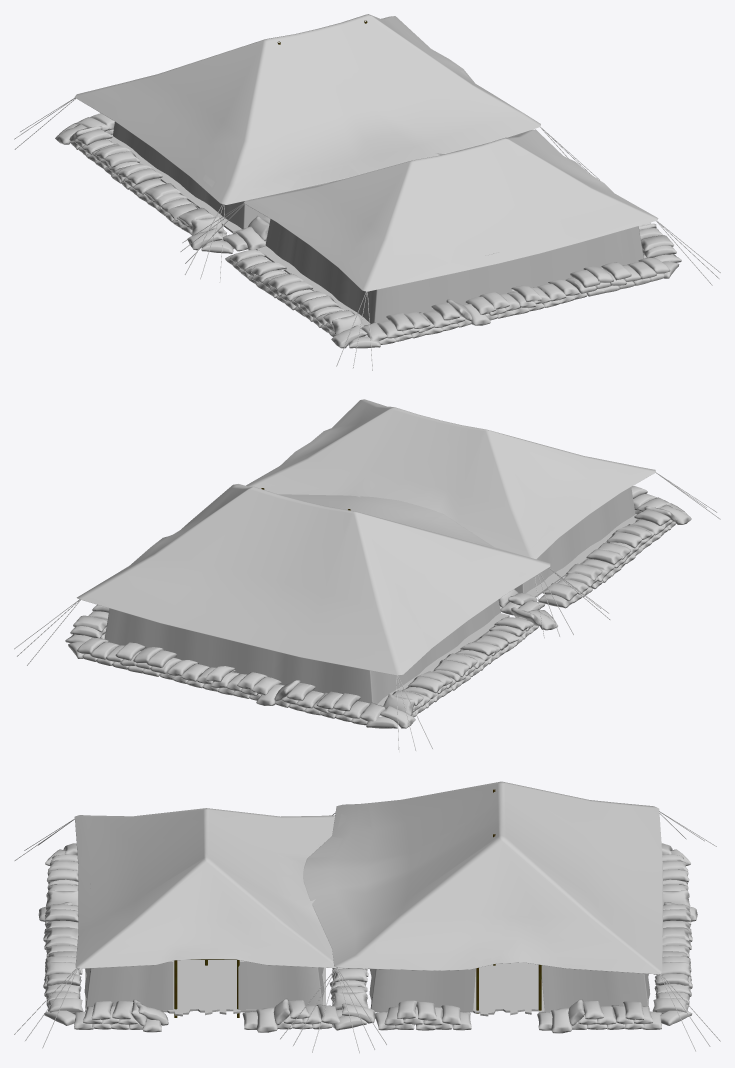
The model's file is HospitalCampanha_03Jun.fbx.
3 views of the same model, one above another, from view 1: azimuth 30°, elevation 25°; view 2: azimuth 150°, elevation 25°; view 3: azimuth 270°, elevation 25° (orthographic). The views are drawn at different scales.
Visible parts, largest first — view 1: pCube782; view 2: pCube782; view 3: pCube782.
Part boxes in pixels (<box>): pCube782: <box>14,14,720,370</box>; pCube782: <box>14,399,720,752</box>; pCube782: <box>14,781,720,1053</box>.
Size of the model in its own units: 1602 by 517 by 2204.
